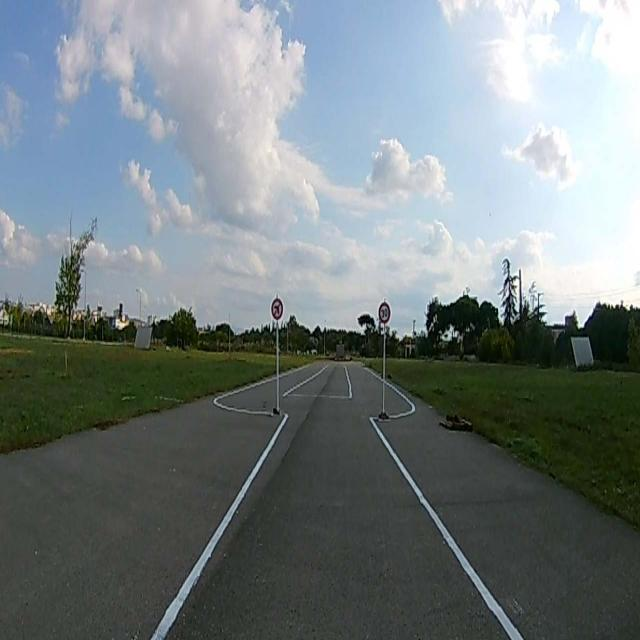30: (379, 303, 391, 323)
soladonulmez: (271, 299, 283, 320)
